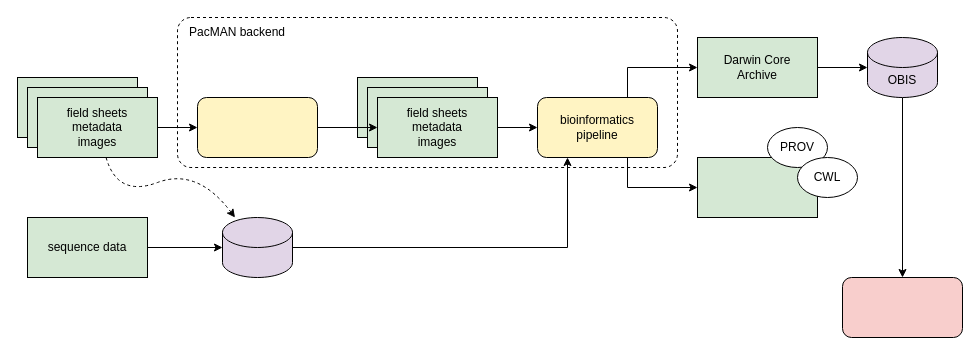
This 980x355 diagram has some shape labels left out. The box of each missing label's shape, as (x1, y1, x2, y2) in pixels:
data upload portal: (196, 96, 318, 158)
decision support system: (842, 276, 962, 338)
RO-CRATE: (696, 156, 818, 218)
SRA: (222, 216, 292, 278)
